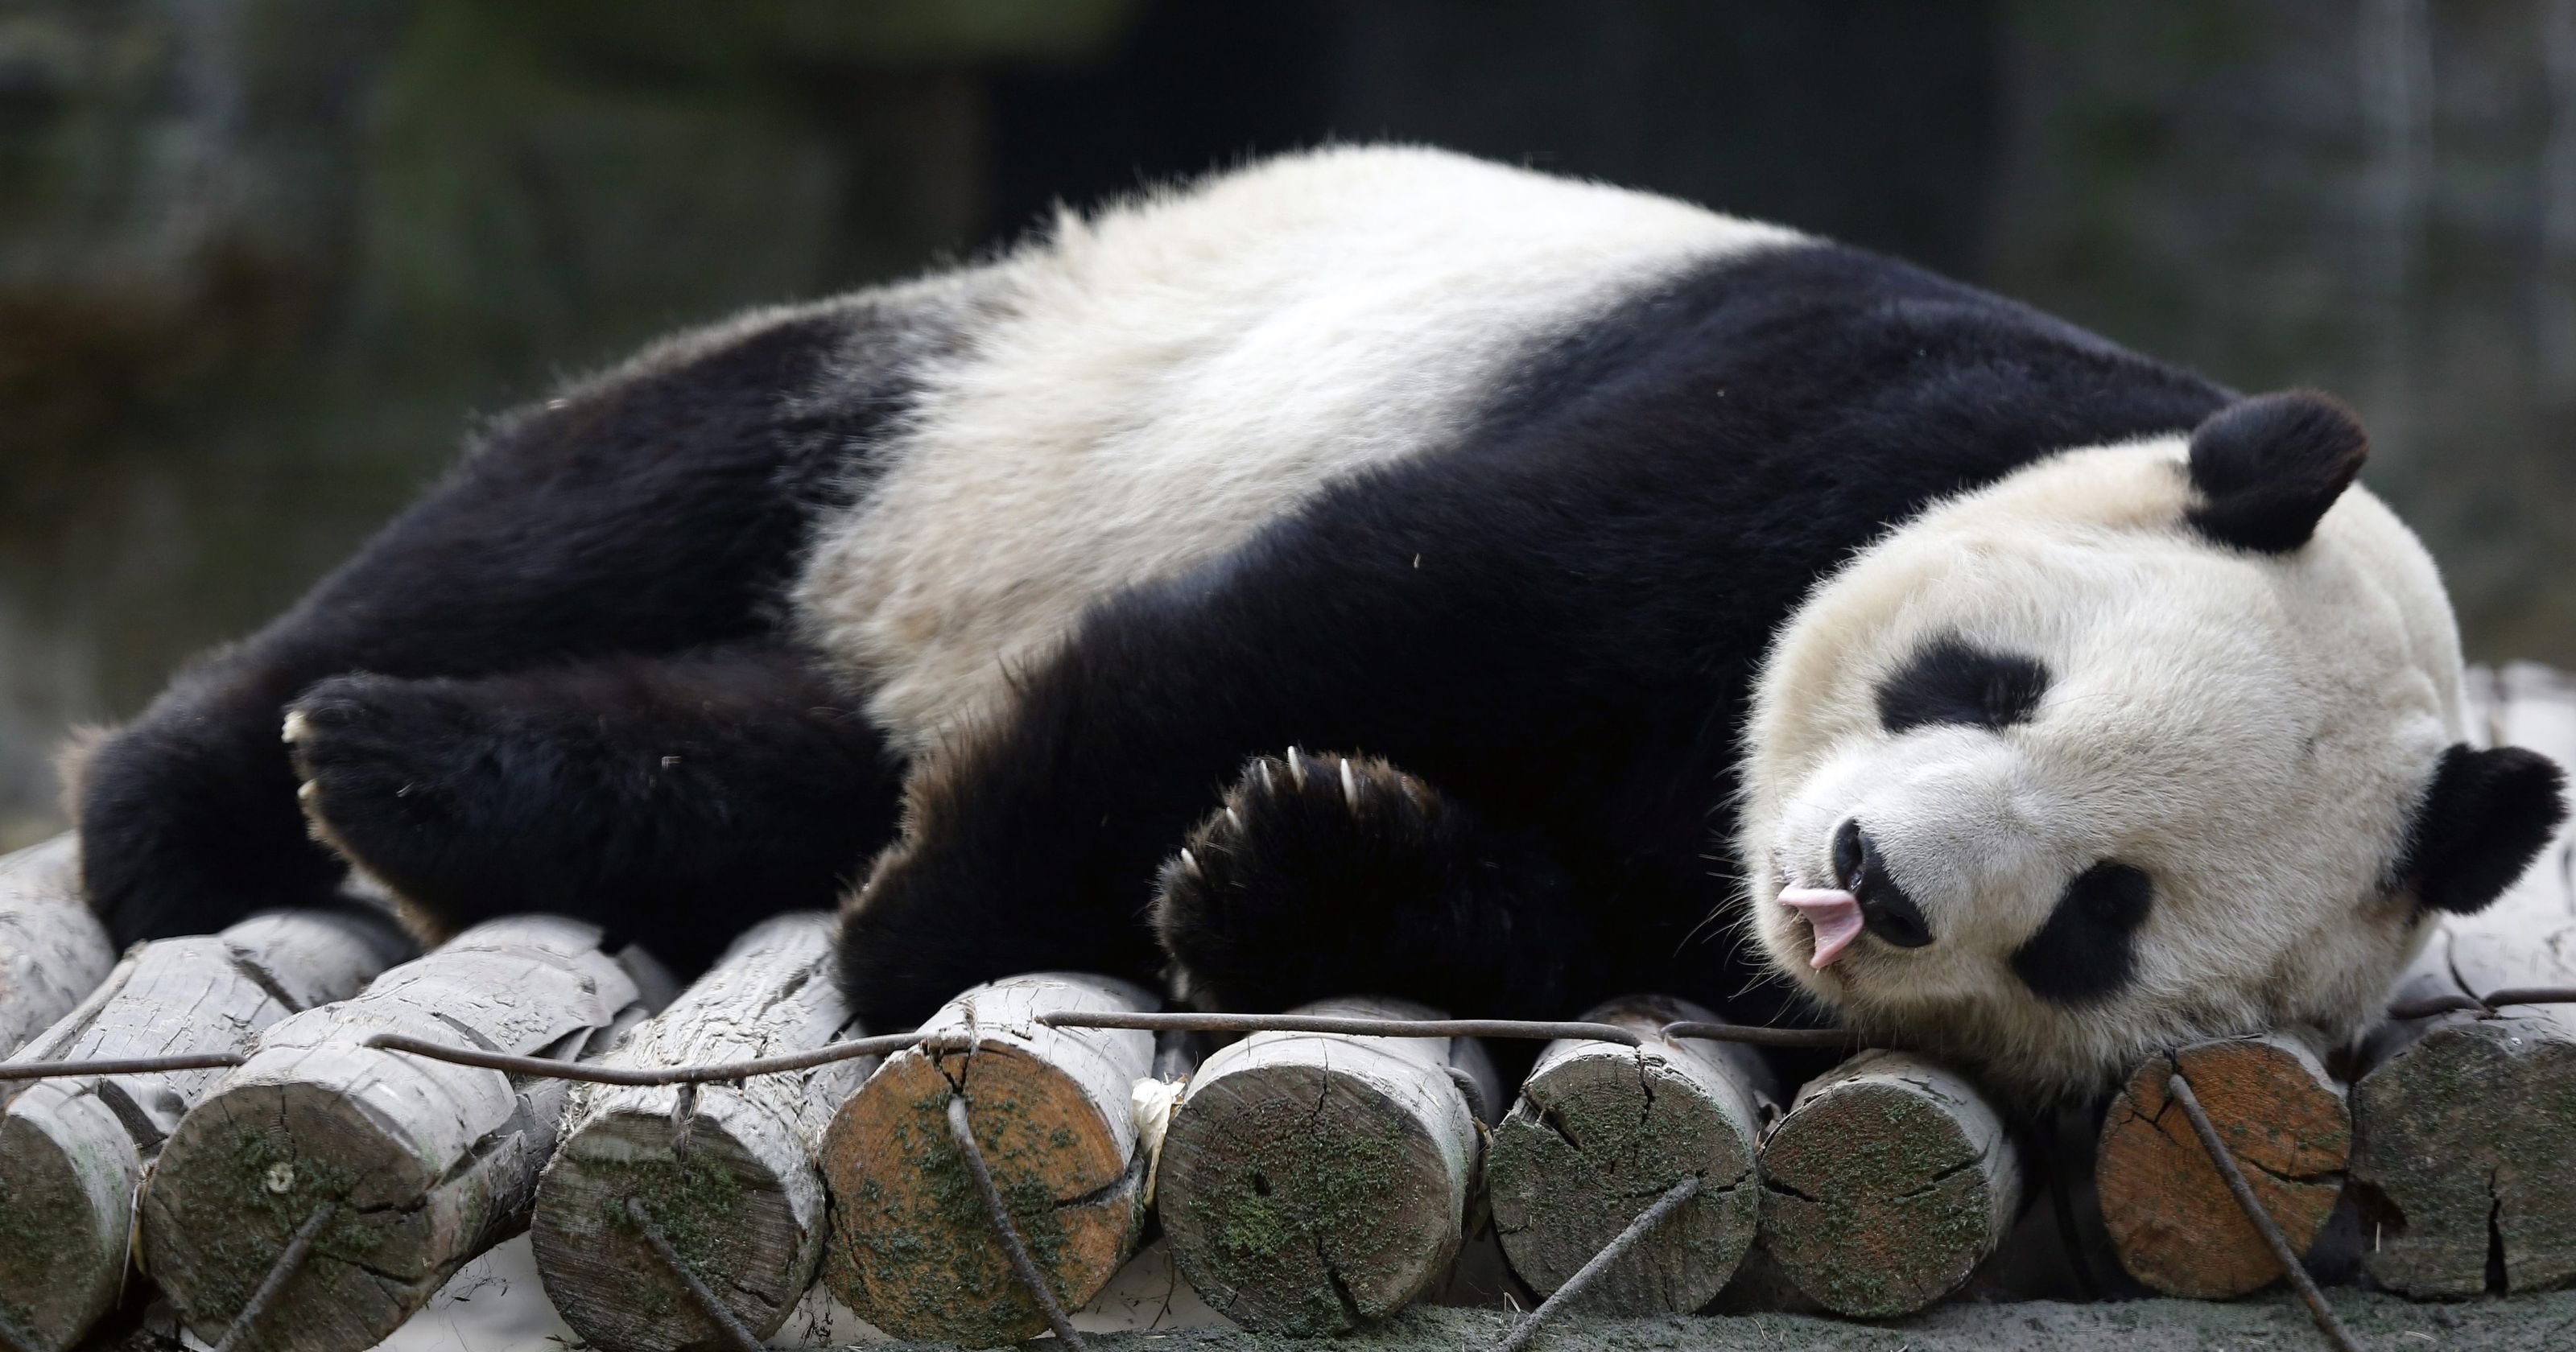panda: (89, 89, 2518, 1175)
